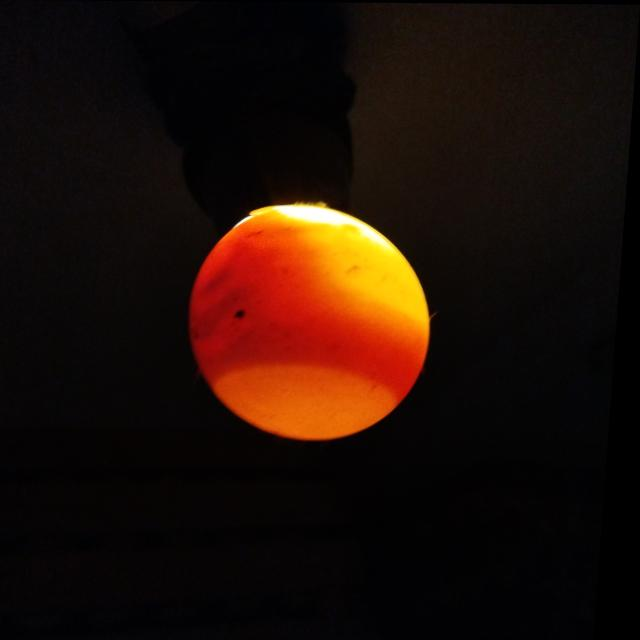Area Infectada: (239, 309, 250, 318)
